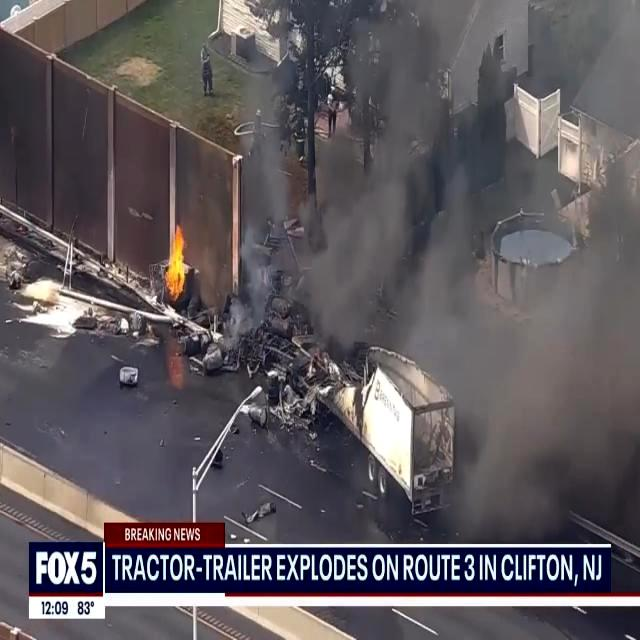fire: (157, 218, 193, 306)
